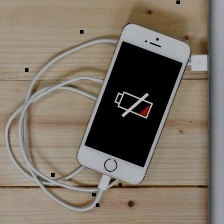phone: (74, 20, 194, 187)
